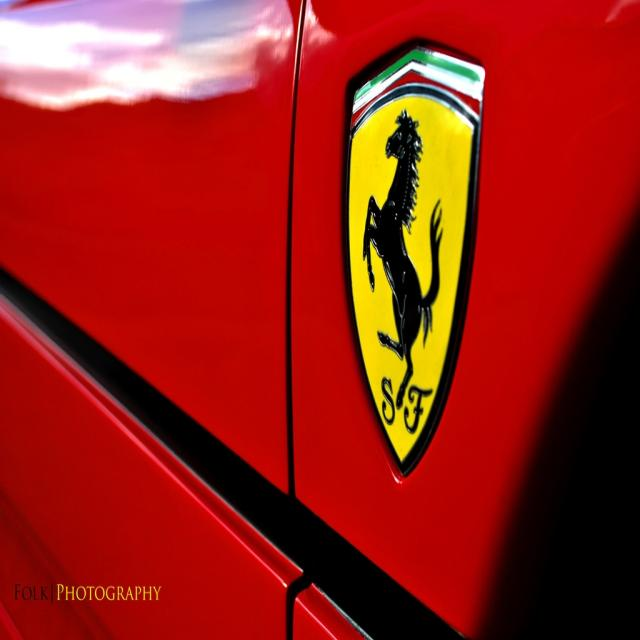ferrari: (347, 47, 489, 467)
